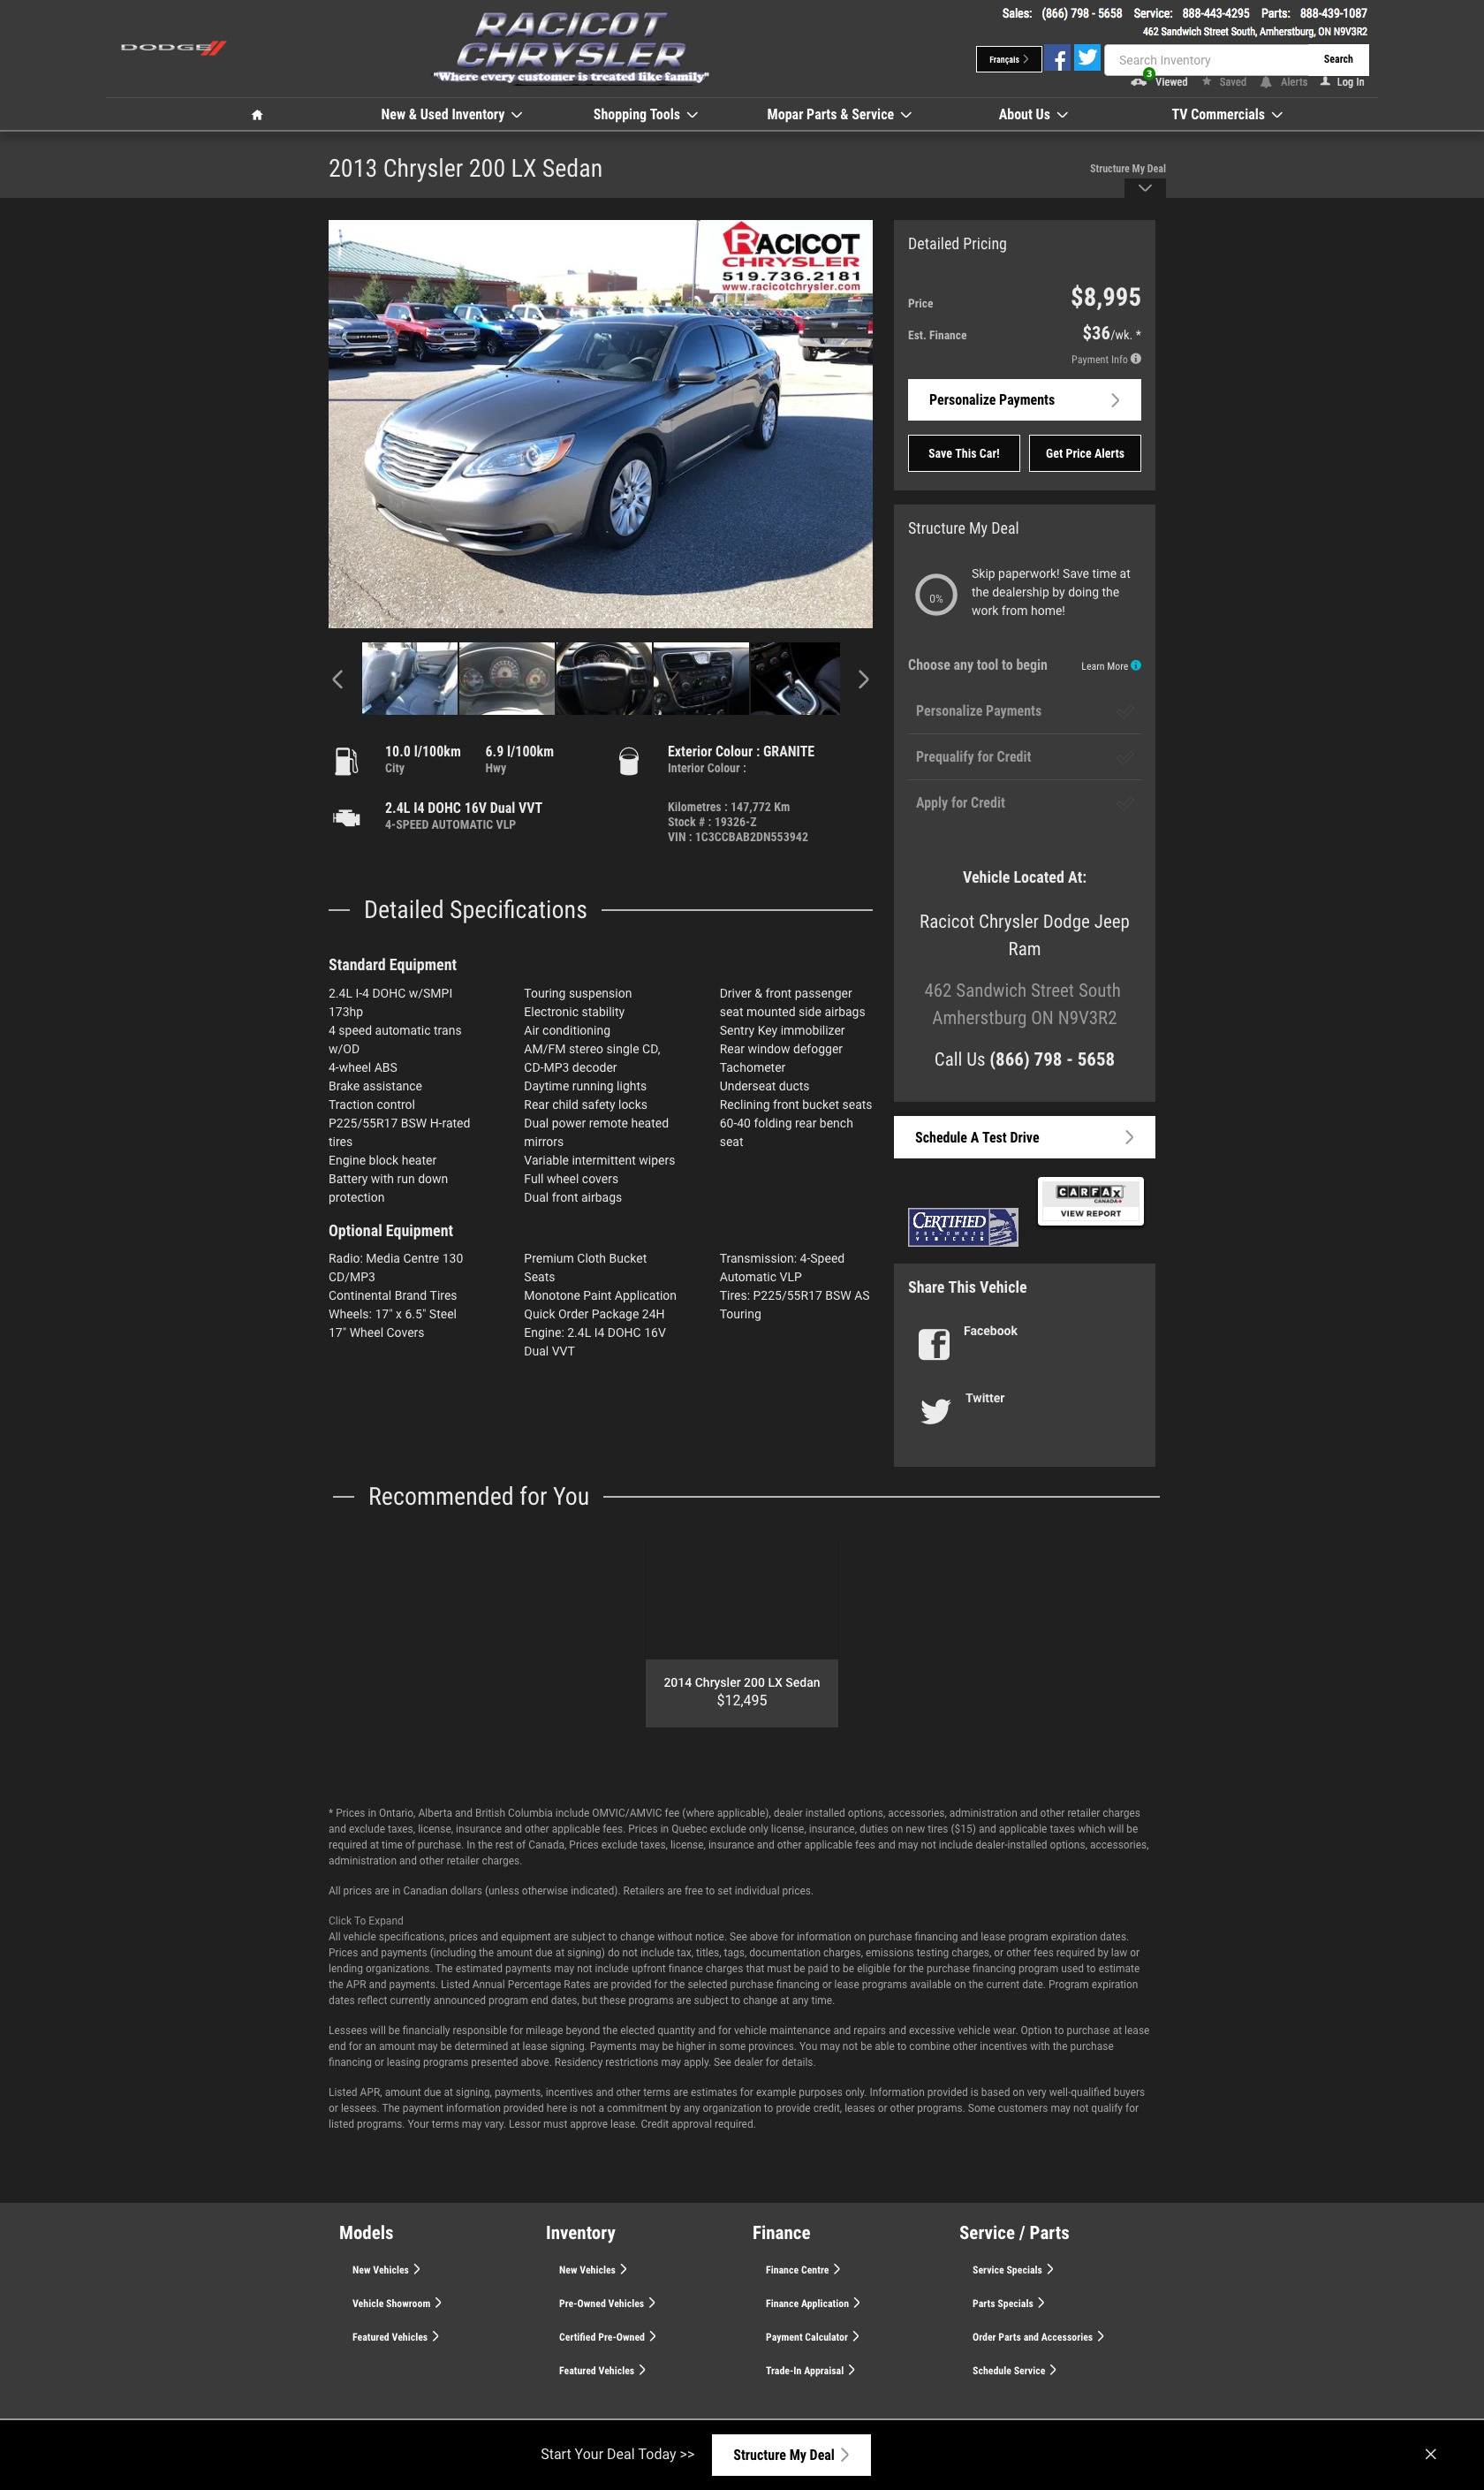car: (855, 668, 871, 693)
